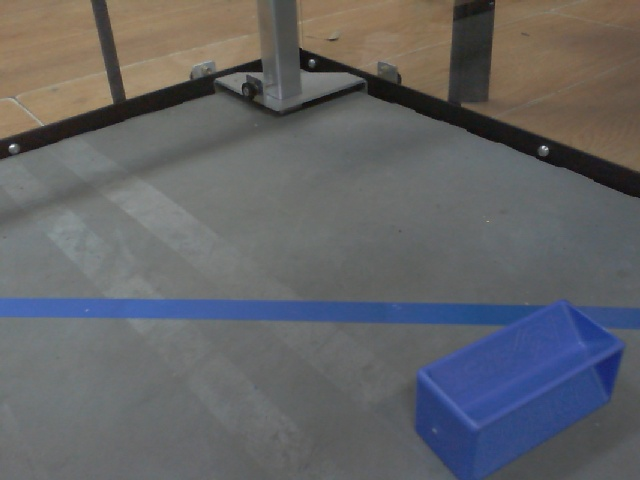BlueSample: (406, 294, 628, 480)
